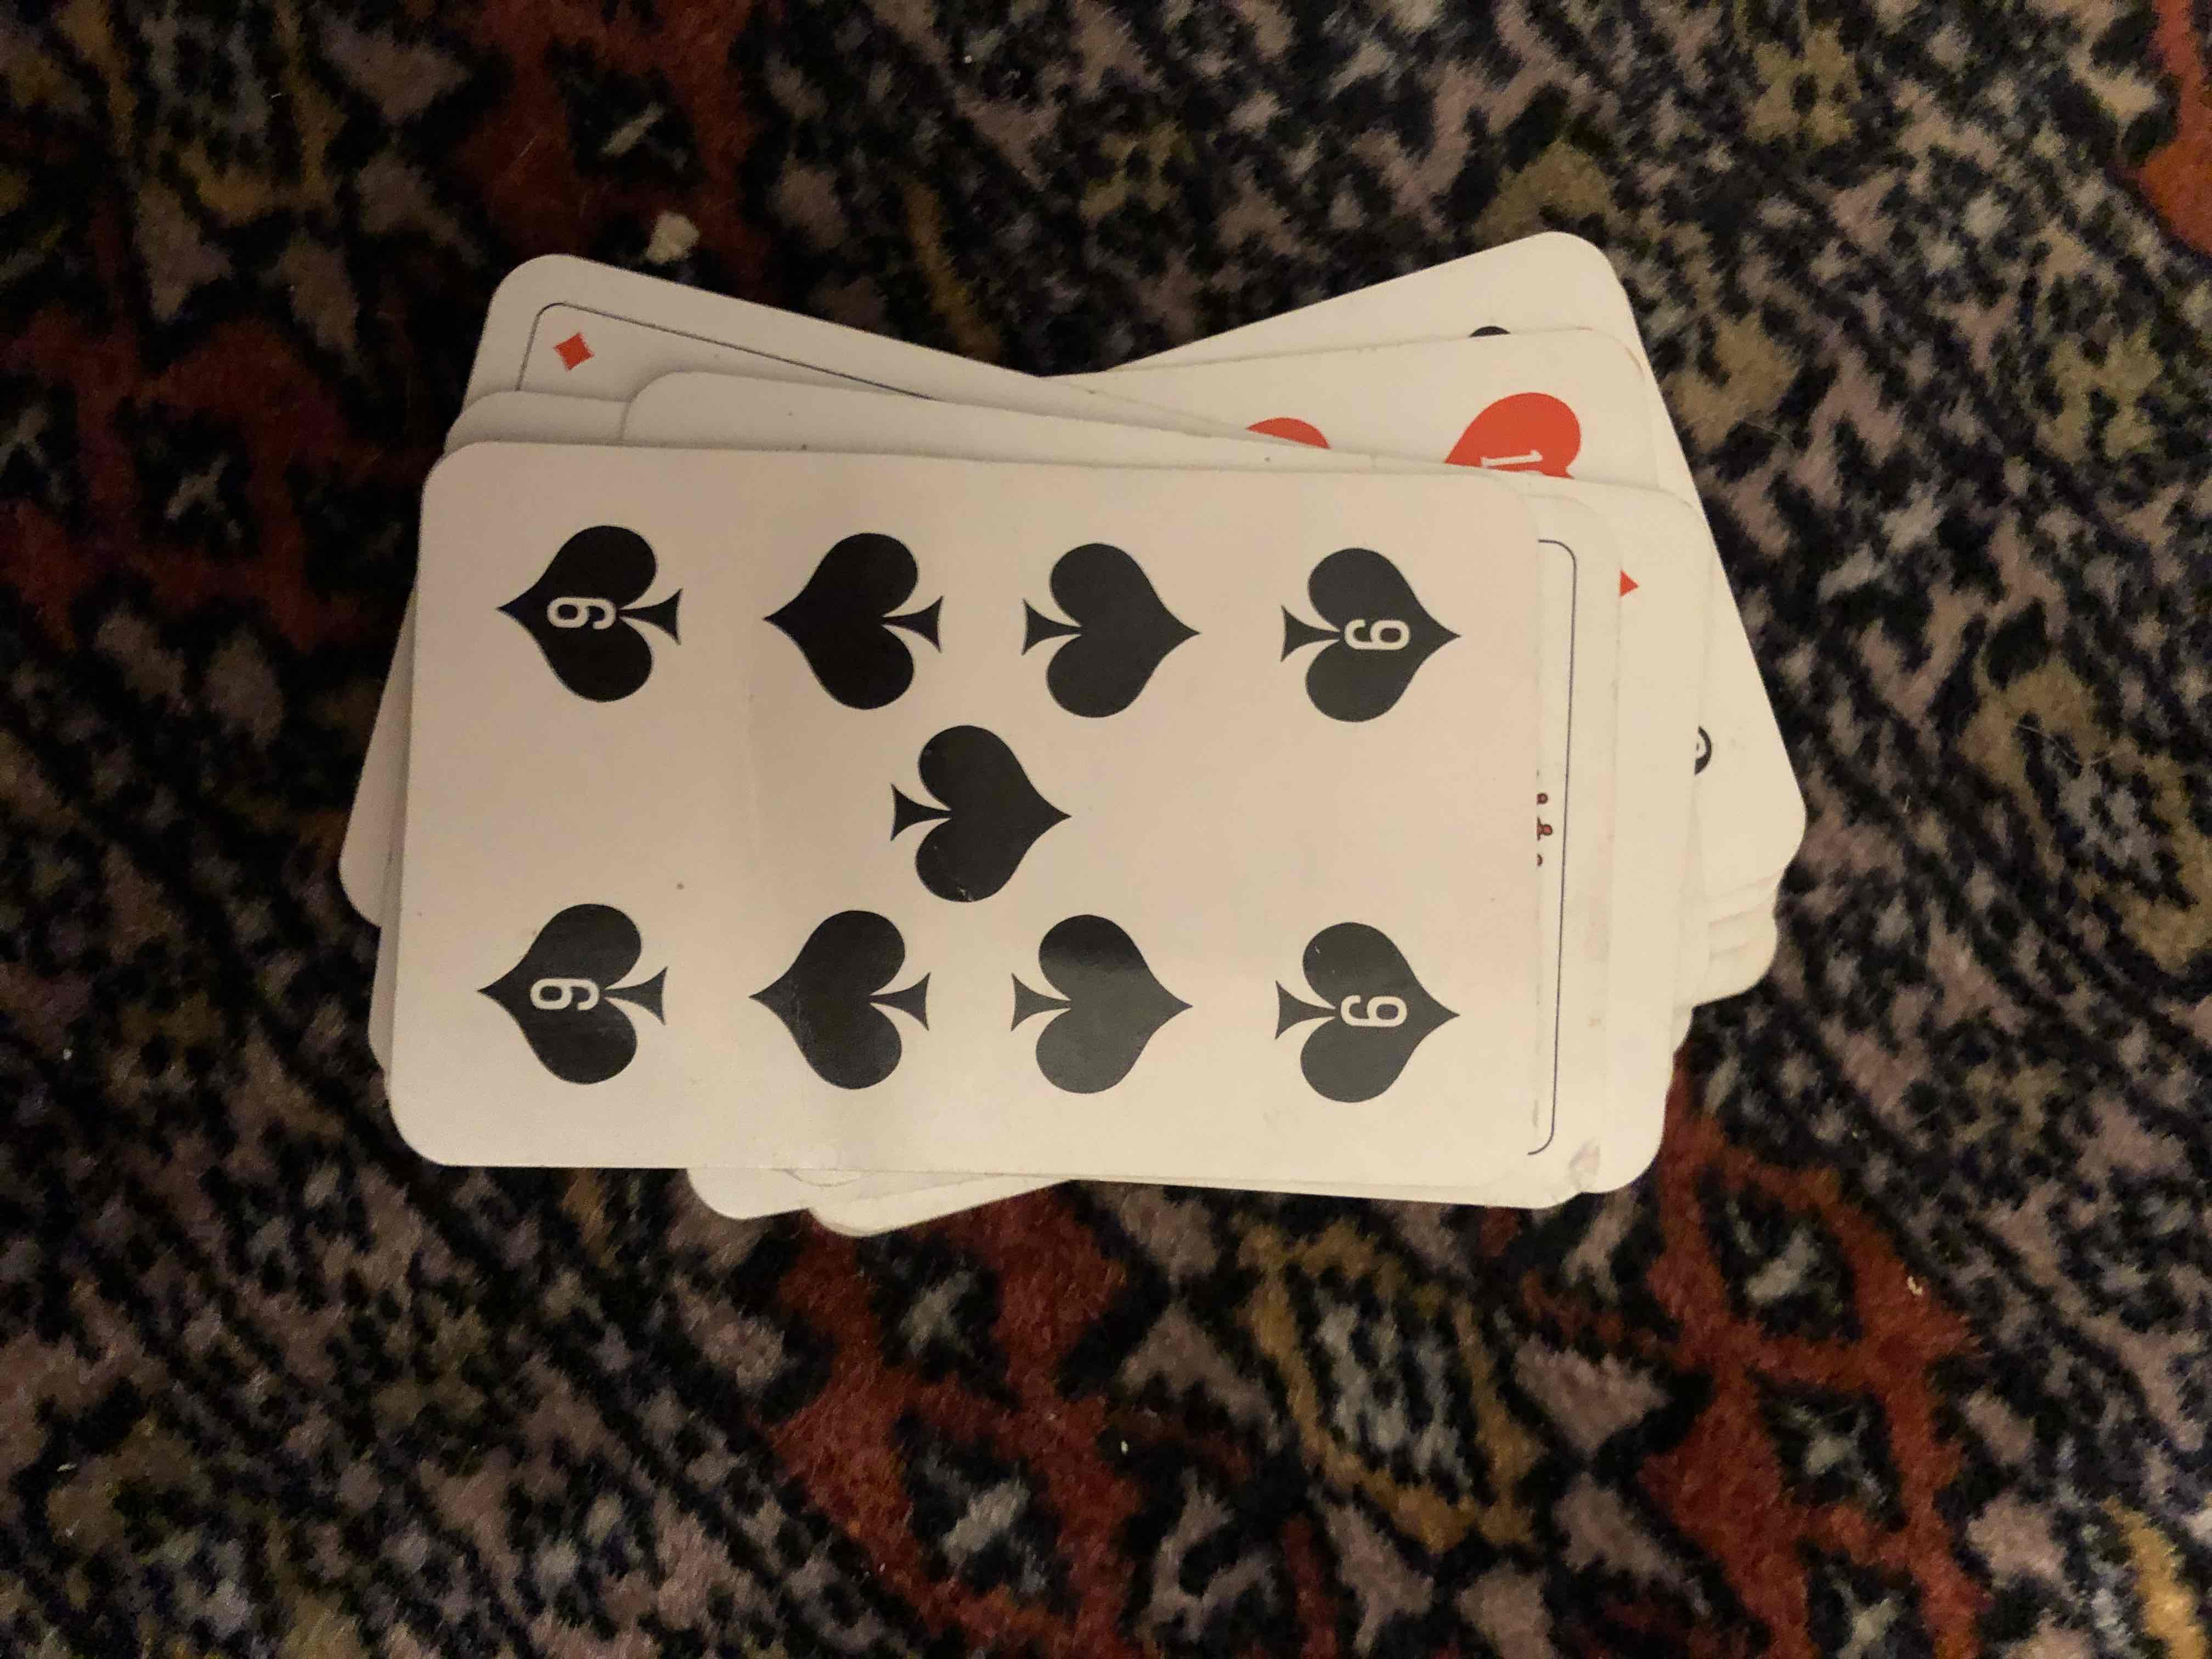spades9: (446, 413, 1606, 1176)
